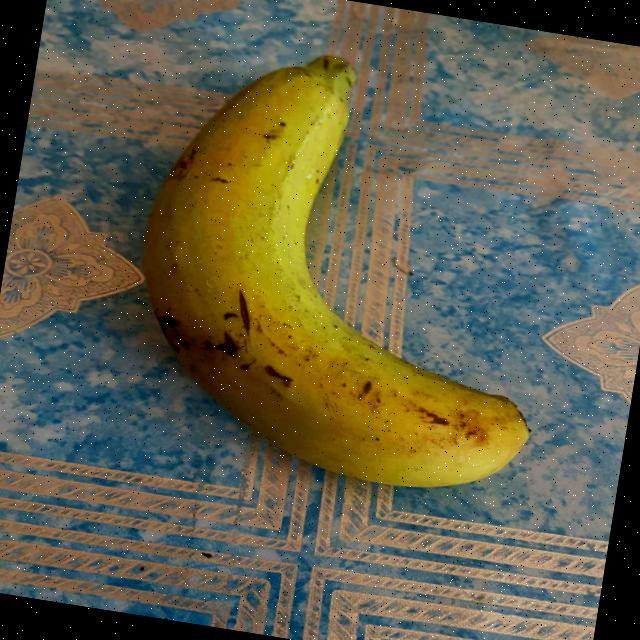Unripe: (36, 0, 633, 533)
